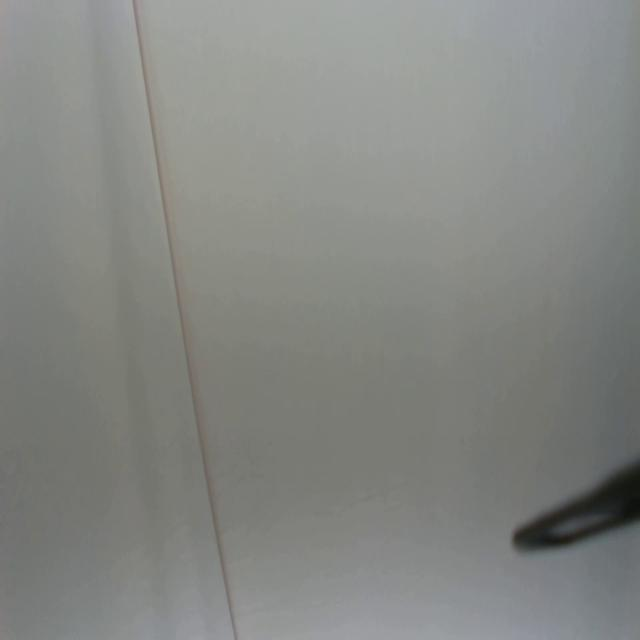crease: (133, 0, 238, 640)
